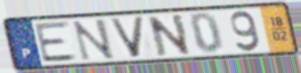0: (189, 11, 225, 55)
9: (228, 9, 262, 53)
E: (33, 20, 80, 64)
N: (71, 17, 118, 63), (146, 13, 194, 58)
V: (107, 16, 147, 60)
